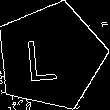L_N: (33, 30, 69, 83)
